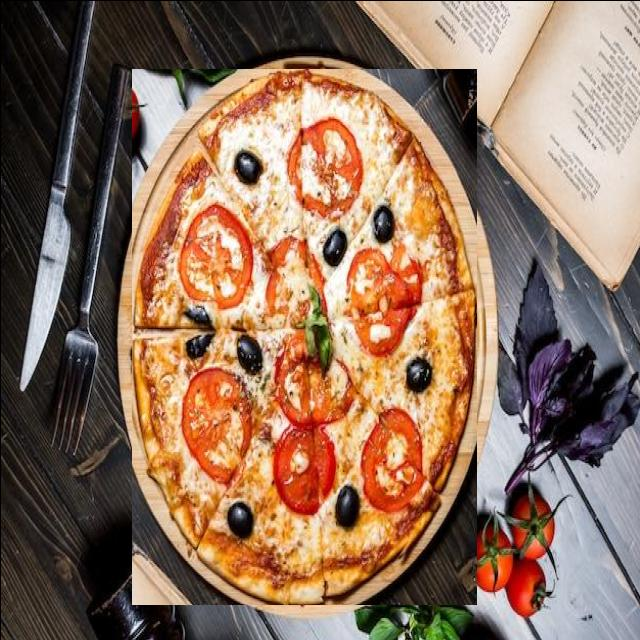basil: (275, 294, 312, 388)
olive: (344, 486, 374, 524), (345, 297, 371, 338), (248, 144, 272, 187), (354, 134, 381, 172), (176, 281, 202, 316), (260, 408, 285, 443), (392, 312, 422, 341), (212, 431, 236, 466), (396, 344, 426, 368)
pizza: (131, 68, 476, 604)
